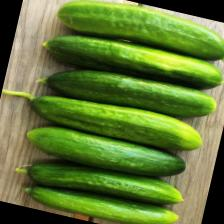cucumber: (34, 54, 220, 128), (26, 84, 208, 159), (40, 23, 224, 97), (14, 147, 188, 218), (22, 118, 188, 188), (53, 0, 224, 66), (20, 175, 181, 224)
